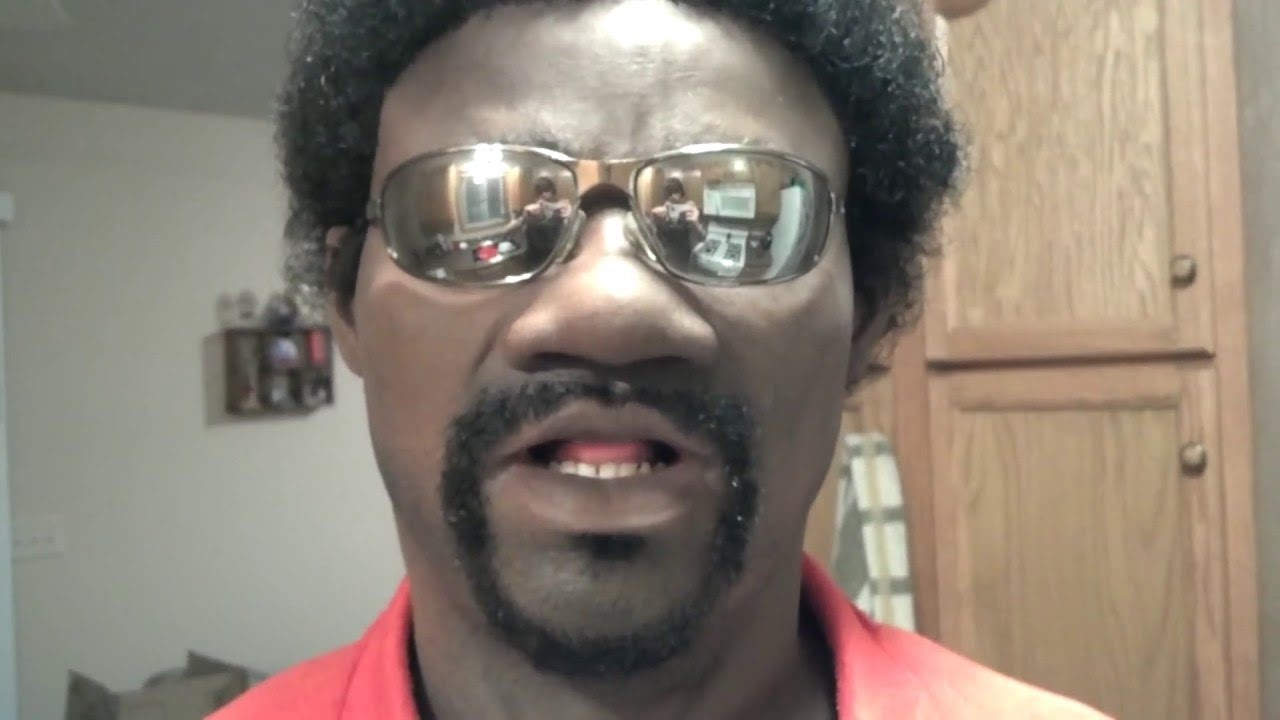face_no_mask: (324, 5, 877, 666)
